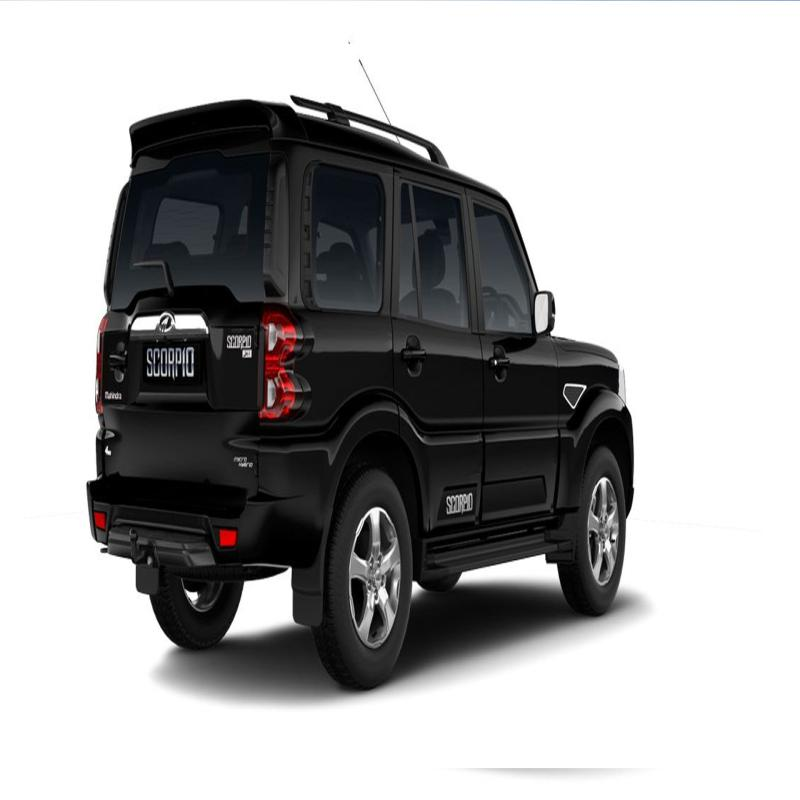car: (80, 75, 633, 636)
